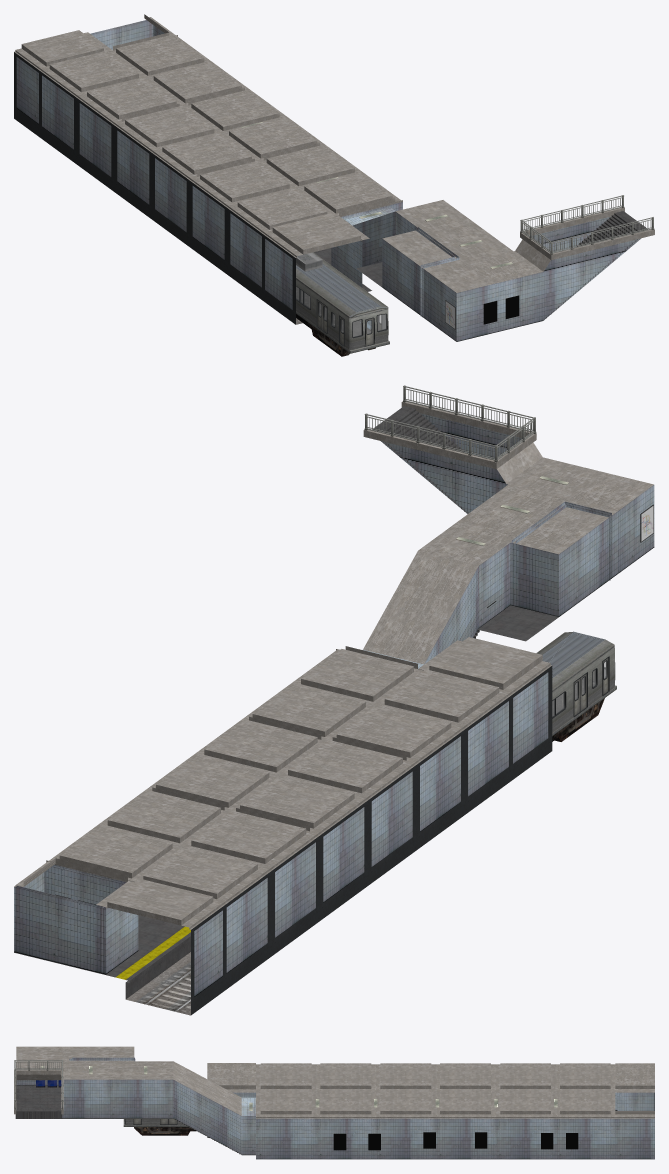
Rendered from metro.glb.
3 renders of one model, top to bottom at view 1: azimuth 30°, elevation 25°; view 2: azimuth 150°, elevation 25°; view 3: azimuth 270°, elevation 25°, orthographic. The views are drawn at different scales.
Parts seen in each view (by area): view 1: St_03.001, St.001, St_01.001, subway_car.001, Railing.001, Stairs_01.001, Estruc.002, Estruc.003, Stairs.001; view 2: St_03.001, St.001, St_01.001, Estruc.002, subway_car.001, Railing.001, Stairs.001, Stairs_01.001, Estruc.003; view 3: St_03.001, St.001, St_01.001, Stairs.001, subway_car.001, Estruc.002, Railing.001, Estruc.003, Poster_05.001, Poster_08.001, Poster_03.001, Poster_04.001 (+3 smaller).
Part boxes in pixels (left/top/right/bottom): St_03.001: left=189, top=145, right=654, bottom=341; St.001: left=14, top=14, right=250, bottom=191; St_01.001: left=114, top=90, right=325, bottom=246; subway_car.001: left=296, top=252, right=389, bottom=356; Railing.001: left=520, top=195, right=654, bottom=254; Stairs_01.001: left=544, top=211, right=647, bottom=319; Estruc.002: left=90, top=20, right=153, bottom=49; Estruc.003: left=415, top=227, right=459, bottom=317; Stairs.001: left=356, top=262, right=543, bottom=341; St_03.001: left=241, top=401, right=654, bottom=850; St.001: left=14, top=790, right=319, bottom=1015; St_01.001: left=144, top=719, right=416, bottom=920; Estruc.002: left=14, top=864, right=138, bottom=974; subway_car.001: left=536, top=631, right=616, bottom=741; Railing.001: left=364, top=385, right=536, bottom=462; Stairs.001: left=473, top=547, right=654, bottom=641; Stairs_01.001: left=372, top=406, right=468, bottom=513; Estruc.003: left=511, top=501, right=611, bottom=606; St_03.001: left=14, top=1046, right=375, bottom=1159; St.001: left=495, top=1063, right=654, bottom=1159; St_01.001: left=375, top=1063, right=495, bottom=1159; Stairs.001: left=16, top=1085, right=241, bottom=1154; subway_car.001: left=123, top=1119, right=195, bottom=1135; Estruc.002: left=615, top=1092, right=654, bottom=1110; Railing.001: left=14, top=1060, right=63, bottom=1109; Estruc.003: left=69, top=1057, right=135, bottom=1061; Poster_05.001: left=333, top=1133, right=346, bottom=1150; Poster_08.001: left=368, top=1133, right=380, bottom=1150; Poster_03.001: left=475, top=1132, right=487, bottom=1148; Poster_04.001: left=423, top=1132, right=435, bottom=1148.
Bounding box in the file's own units: 22.79 × 12.99 × 67.02.
26 materials, 25 textured.
